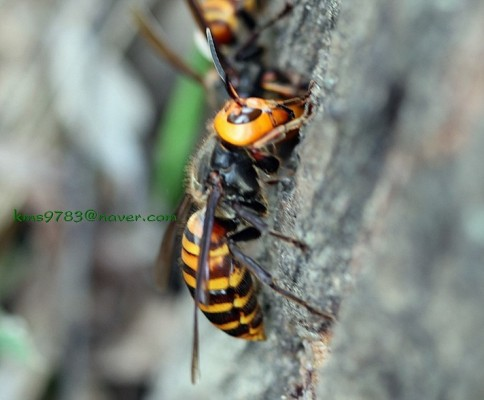asian_giant_hornet: (173, 75, 320, 345)
